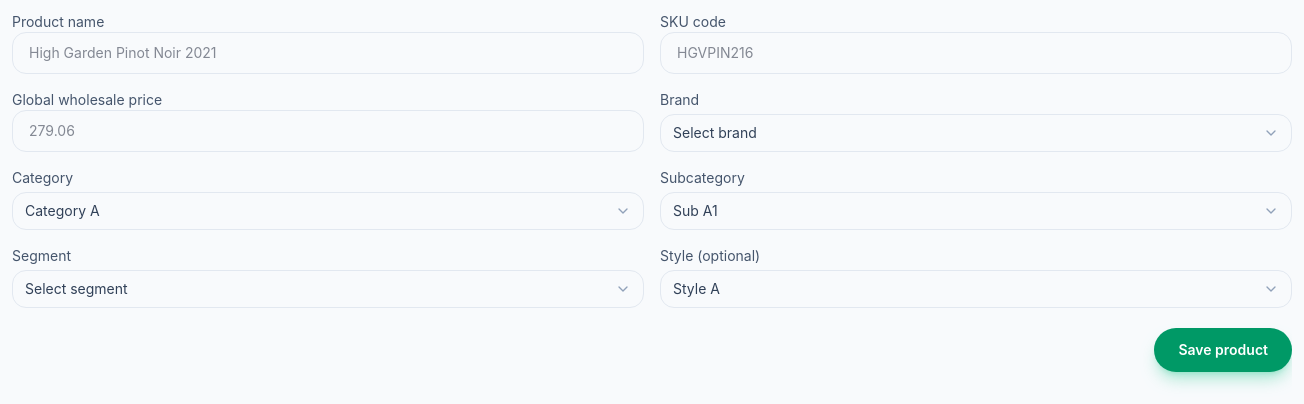
Test case: ProductForm › clears subcategory and style when category changes
The width and height of the screenshot is (1304, 404).
Expected: the text "Sub A1" is shown, [673,201,718,221]
Expected: the text "Style A" is shown, [673,279,720,299]
# Switch to Category B
Click the button "Category A".
click(62, 210)  # box [12,192,644,230]
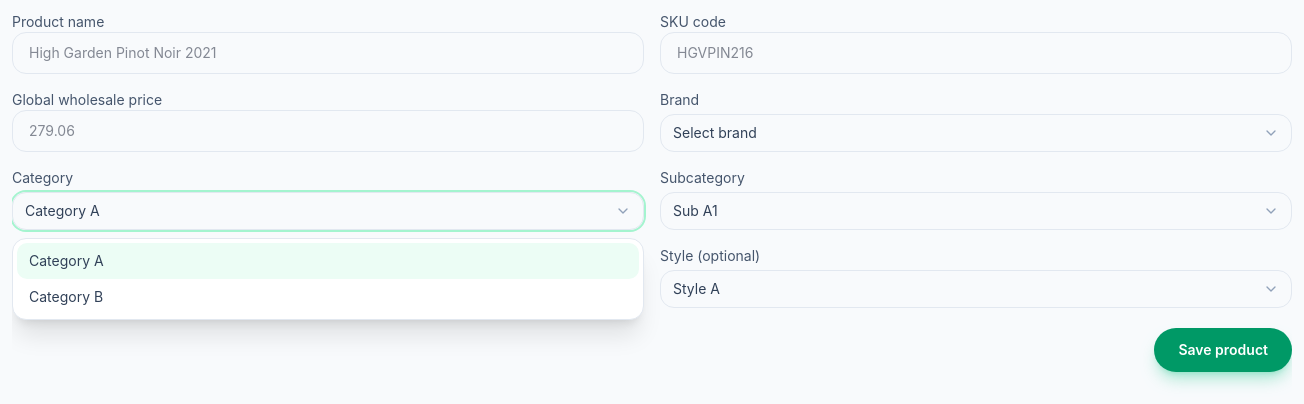
Click the button "Category B".
click(66, 296)  # box [17,279,639,315]
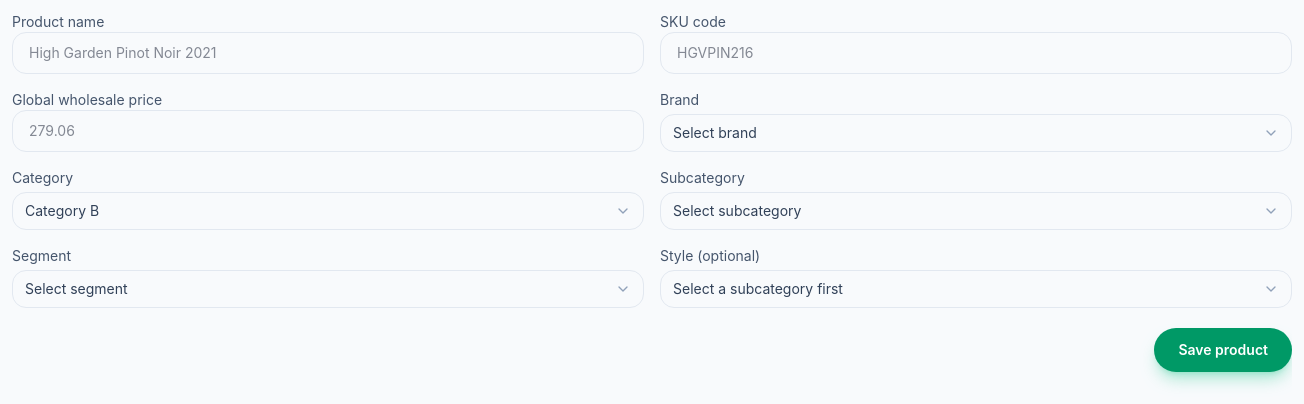
Result: the text "Select subcategory" is shown at [673,201,801,221]
Result: the button "Sub A1" is gone
Result: the text "Select a subcategory first" is shown at [673,279,843,299]
# Open subcategory dropdown to verify Sub A1 is not in the filtered list
Click the button "Select subcategory".
click(737, 210)  # box [660,192,1292,230]
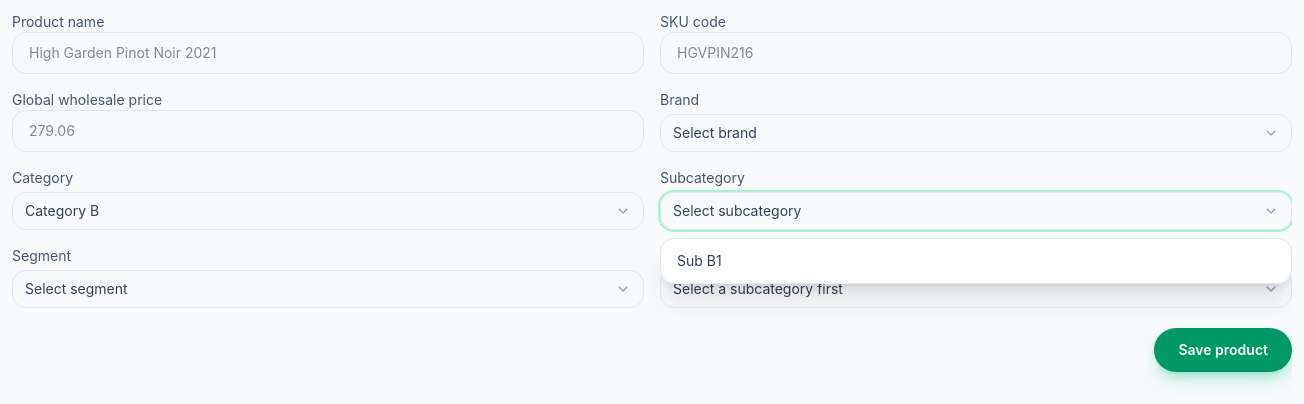
Expected: the button "Sub A1" is not shown
Result: the button "Sub B1" is shown at [665,243,1287,279]
